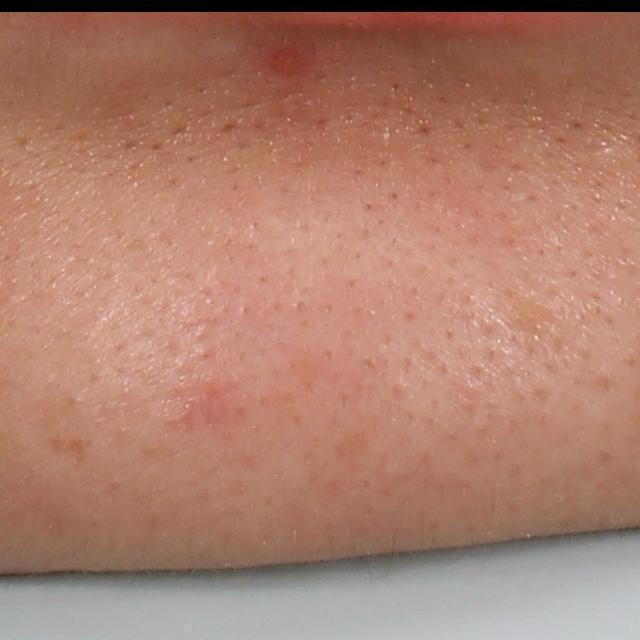papule: (269, 48, 299, 78)
